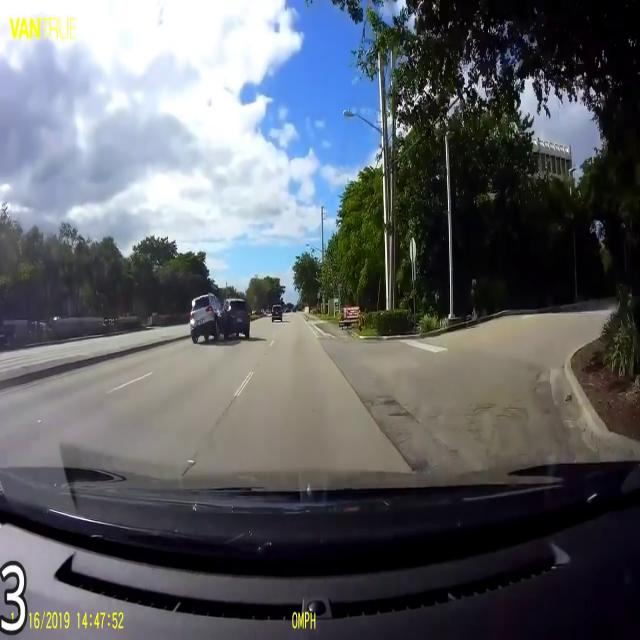accident: (193, 289, 250, 344)
